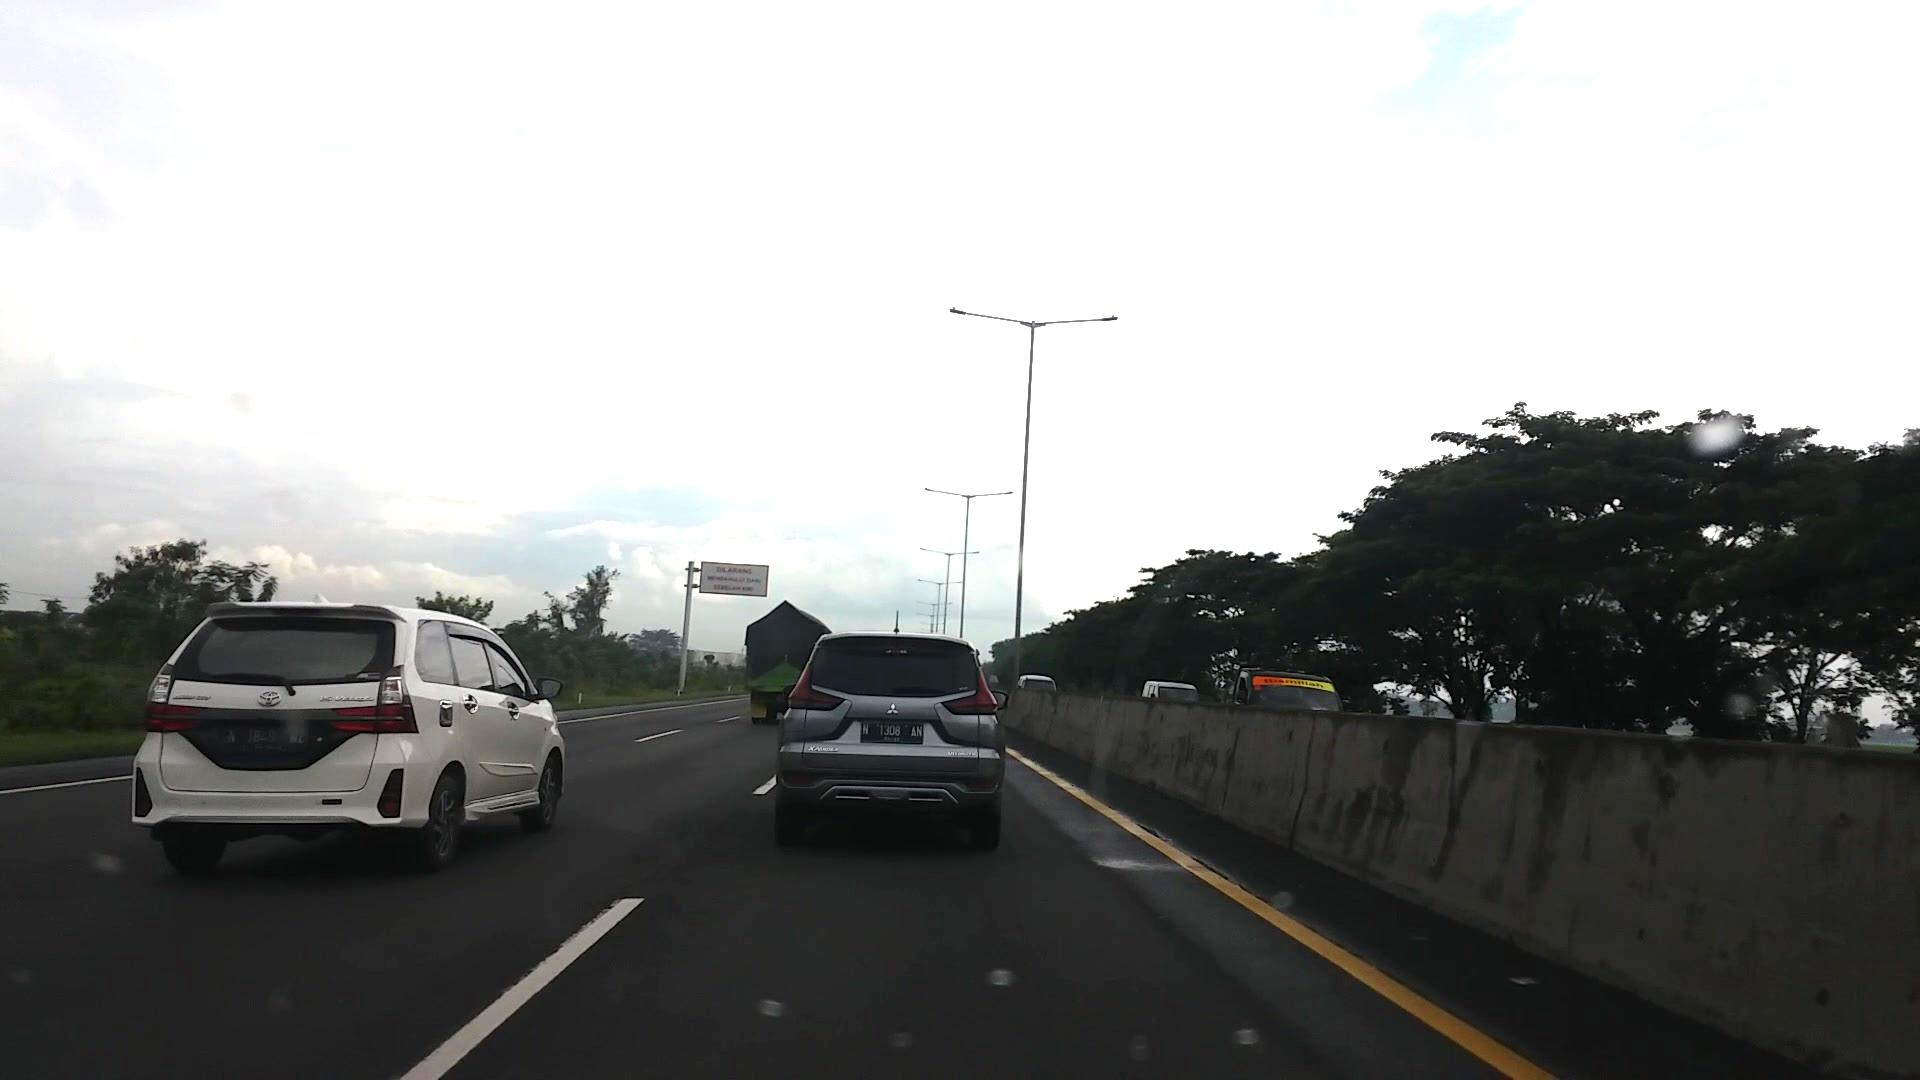plate_positive: (860, 720, 924, 744)
